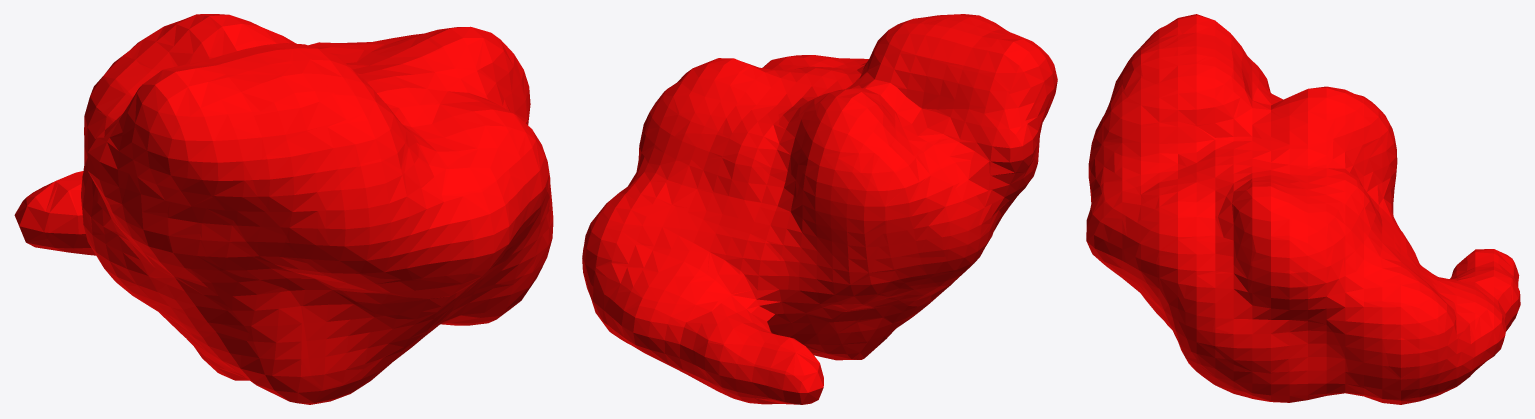
The model's file is cysC_coarse.dae.
3 renders of one model, left to right at view 1: azimuth 30°, elevation 25°; view 2: azimuth 150°, elevation 25°; view 3: azimuth 270°, elevation 25°, orthographic. The views are drawn at different scales.
Visible parts, largest first — view 1: cysC; view 2: cysC; view 3: cysC.
Part boxes in pixels (left/top/right/bottom): cysC: left=14, top=14, right=553, bottom=404; cysC: left=582, top=14, right=1057, bottom=404; cysC: left=1086, top=14, right=1520, bottom=404.
Size of the model in its own units: 48.8 by 39.55 by 53.71.
